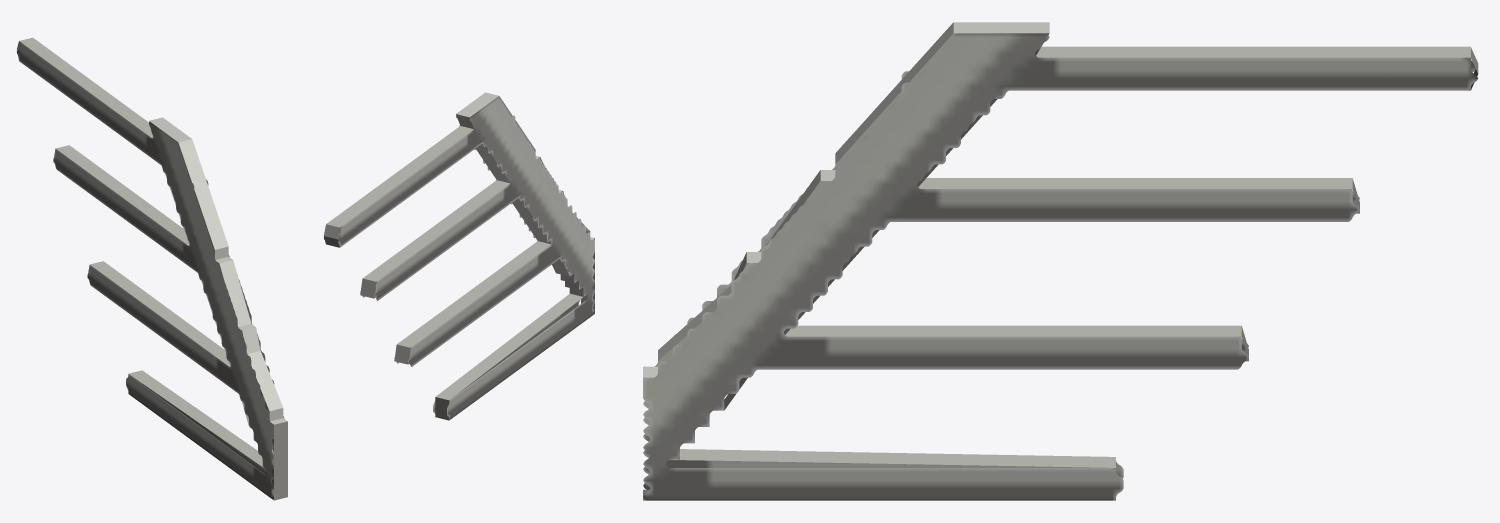
Rendered from pz_native_fixtures_railings_01_70_frame.obj.
The picture shows the model from 3 angles, left to right: view 1: azimuth 30°, elevation 25°; view 2: azimuth 150°, elevation 25°; view 3: azimuth 270°, elevation 25°; orthographic projection. The views are drawn at different scales.
Parts seen in each view (by area): view 1: pz_native_fixtures_railings_01_70_frame; view 2: pz_native_fixtures_railings_01_70_frame; view 3: pz_native_fixtures_railings_01_70_frame.
Boxes of the visible parts, left/top/right/bottom form: pz_native_fixtures_railings_01_70_frame: left=16, top=37, right=287, bottom=500; pz_native_fixtures_railings_01_70_frame: left=323, top=92, right=594, bottom=420; pz_native_fixtures_railings_01_70_frame: left=643, top=22, right=1478, bottom=500.
Size of the model in its own units: 0.045 by 0.9219 by 1.48.
Materials: 1 (1 with a texture image).
